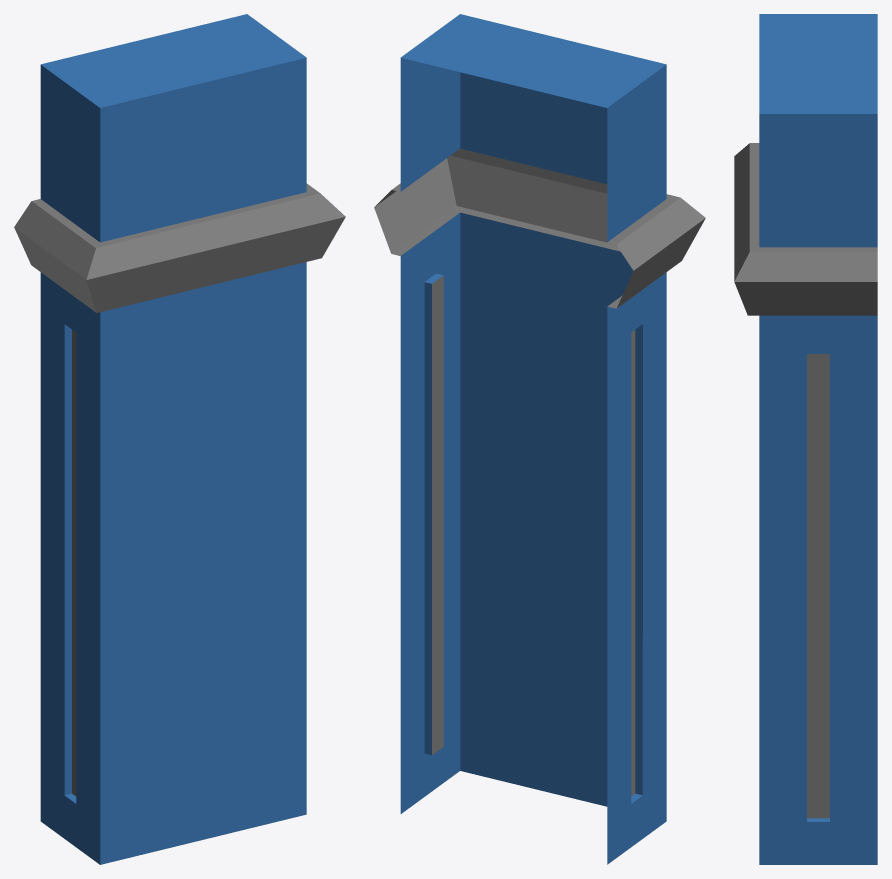
File: M_Column01.fbx
3 views of the same model, side by side, from view 1: azimuth 30°, elevation 25°; view 2: azimuth 150°, elevation 25°; view 3: azimuth 270°, elevation 25° (orthographic).
Visible parts, largest first — view 1: M_Column01; view 2: M_Column01; view 3: M_Column01.
Part boxes in pixels (x1,y1,x2,y2): M_Column01: (14,14,345,864); M_Column01: (374,14,705,864); M_Column01: (734,14,877,864).
Size of what is drawn, in the model's own units: 1.26 by 3.5 by 0.6059.
